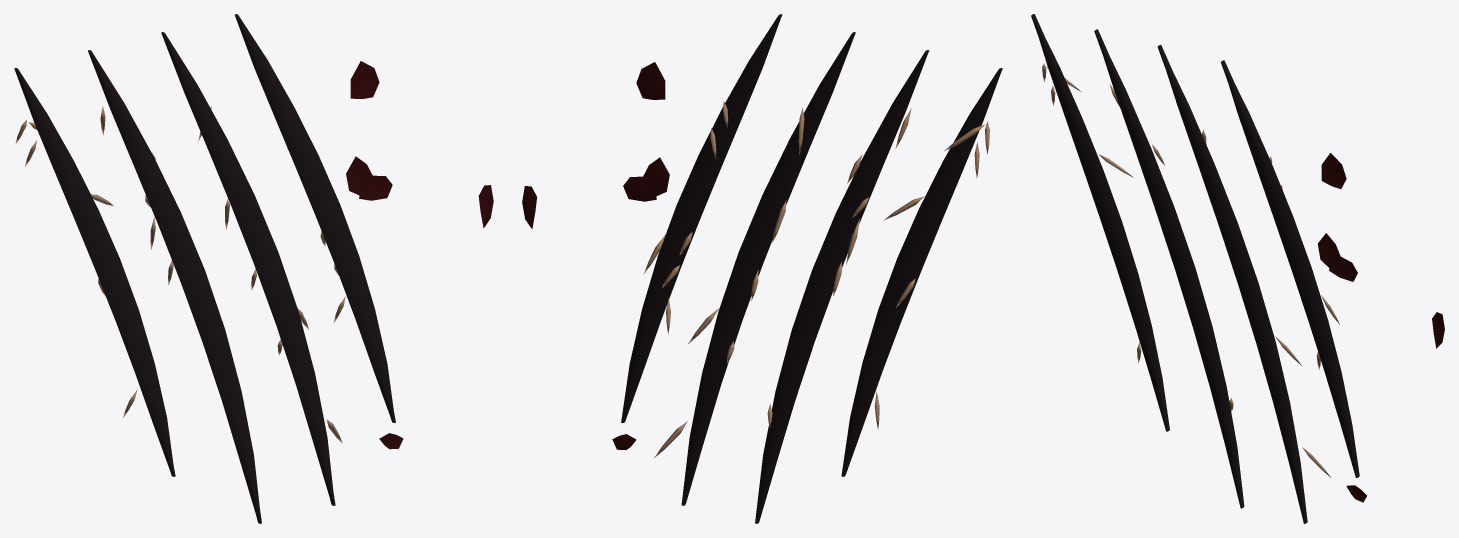
File: claw_gouges.glb
3 views of the same model, side by side, from view 1: azimuth 30°, elevation 25°; view 2: azimuth 150°, elevation 25°; view 3: azimuth 330°, elevation 25° (orthographic). The views are drawn at different scales.
Parts seen in each view (by area): view 1: claw_gouges; view 2: claw_gouges; view 3: claw_gouges.
Part boxes in pixels (left/top/right/bottom): claw_gouges: left=14, top=14, right=493, bottom=523; claw_gouges: left=522, top=14, right=1002, bottom=523; claw_gouges: left=1031, top=14, right=1444, bottom=523.
Size of what is drawn, in the model's own units: 1.31 by 1.34 by 0.057.
